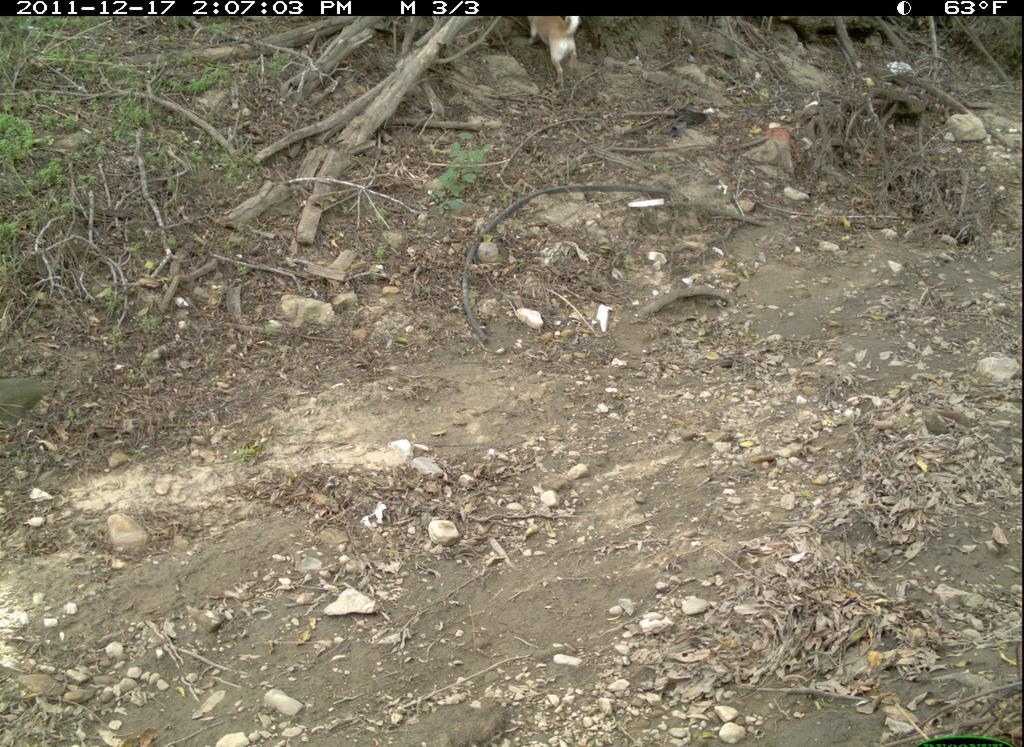dog: (518, 14, 599, 94)
